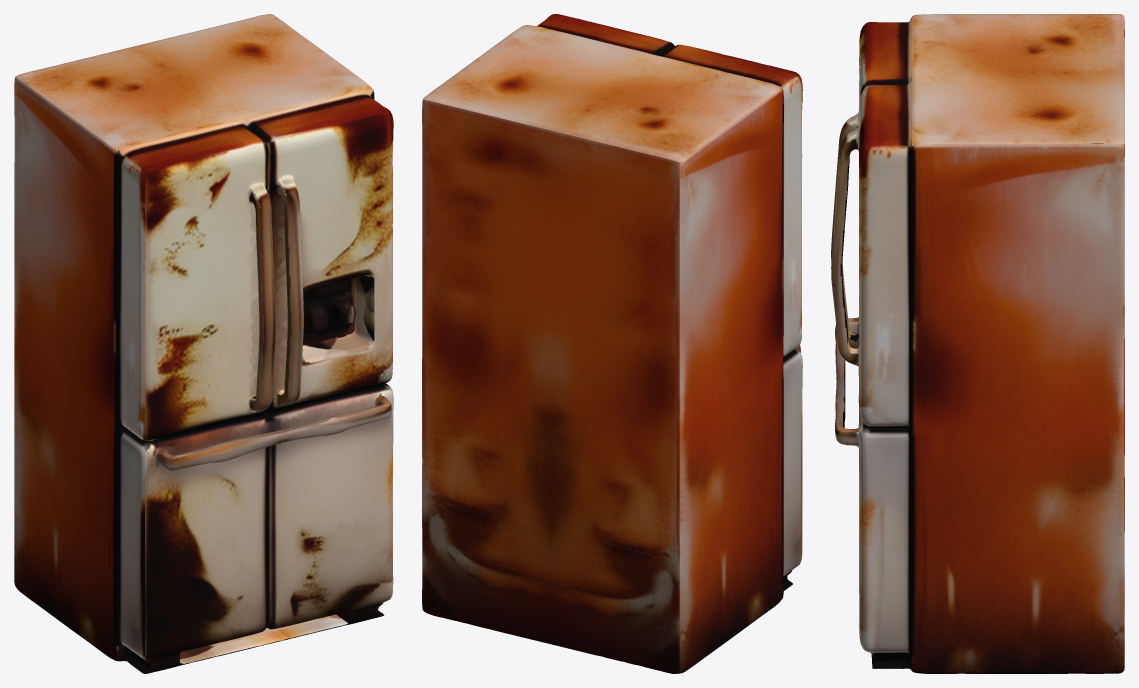
The model's file is heladera_oxidada.glb.
3 renders of one model, left to right at view 1: azimuth 30°, elevation 25°; view 2: azimuth 150°, elevation 25°; view 3: azimuth 270°, elevation 25°, orthographic. The views are drawn at different scales.
Parts seen in each view (by area): view 1: tmprvuvlmh4.ply; view 2: tmprvuvlmh4.ply; view 3: tmprvuvlmh4.ply.
Boxes of the visible parts, x1=… form: tmprvuvlmh4.ply: x1=14, y1=14, x2=393, y2=673; tmprvuvlmh4.ply: x1=422, y1=14, x2=802, y2=673; tmprvuvlmh4.ply: x1=831, y1=14, x2=1124, y2=673.
Bounding box in the file's own units: 0.5239 × 0.9934 × 0.4959.
1 material, 1 textured.
